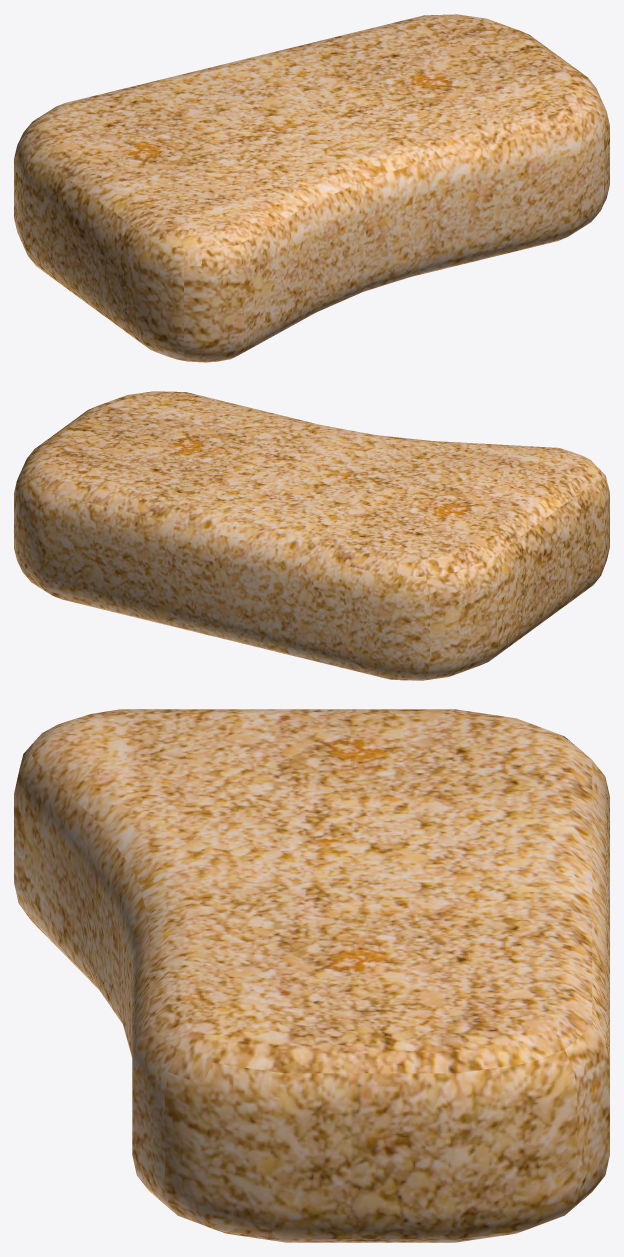
The model's file is kipnugget.fbx.
3 views of the same model, one above another, from view 1: azimuth 30°, elevation 25°; view 2: azimuth 150°, elevation 25°; view 3: azimuth 270°, elevation 25° (orthographic). The views are drawn at different scales.
Visible parts, largest first — view 1: Cube; view 2: Cube; view 3: Cube.
Boxes of the visible parts, x1,y1,x2,y2 form: Cube: (14, 14, 609, 362); Cube: (14, 391, 609, 680); Cube: (14, 709, 609, 1242).
Size of the model in its own units: 84.19 by 20.68 by 56.48.
